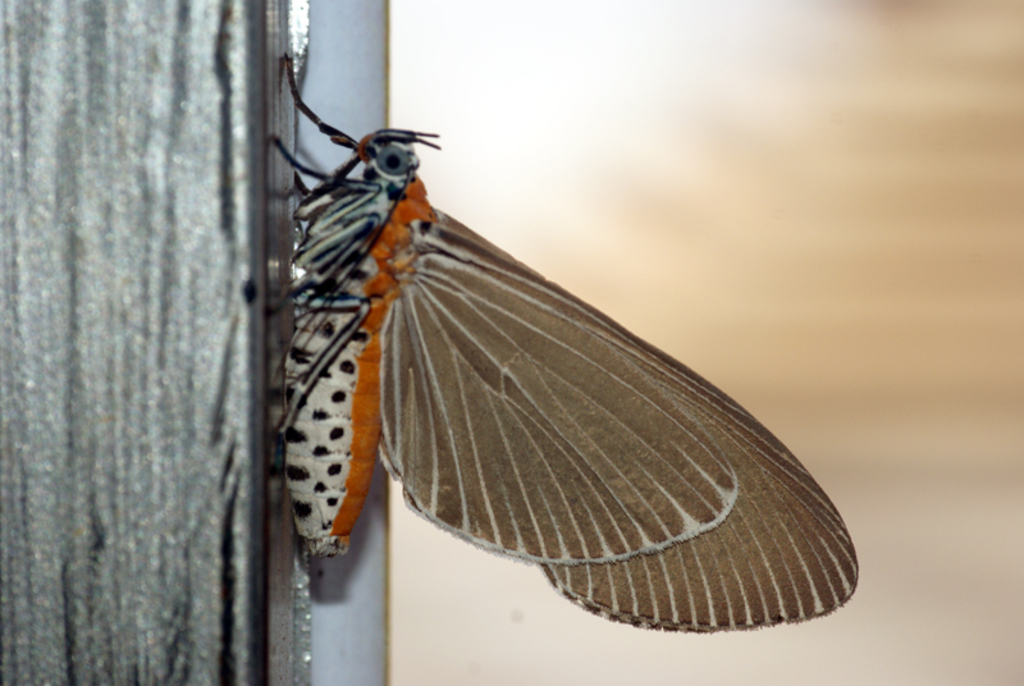Butterfly: (239, 53, 871, 658)
